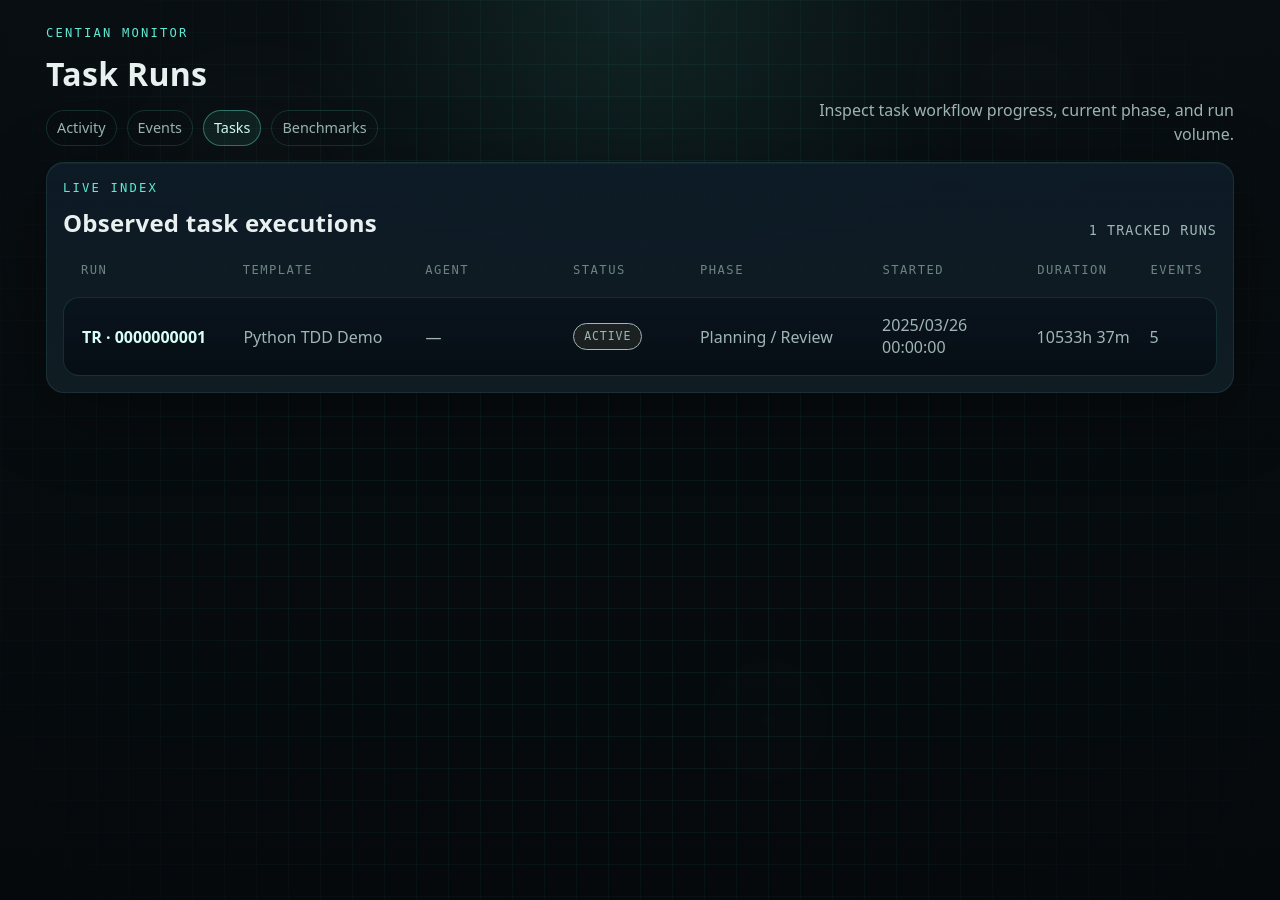
Test case: task run list › navigates to the detail route when a row is clicked
Click the link with aria-label "tr_1742947200123_0000000001": (640, 336) [63, 297, 1217, 376]
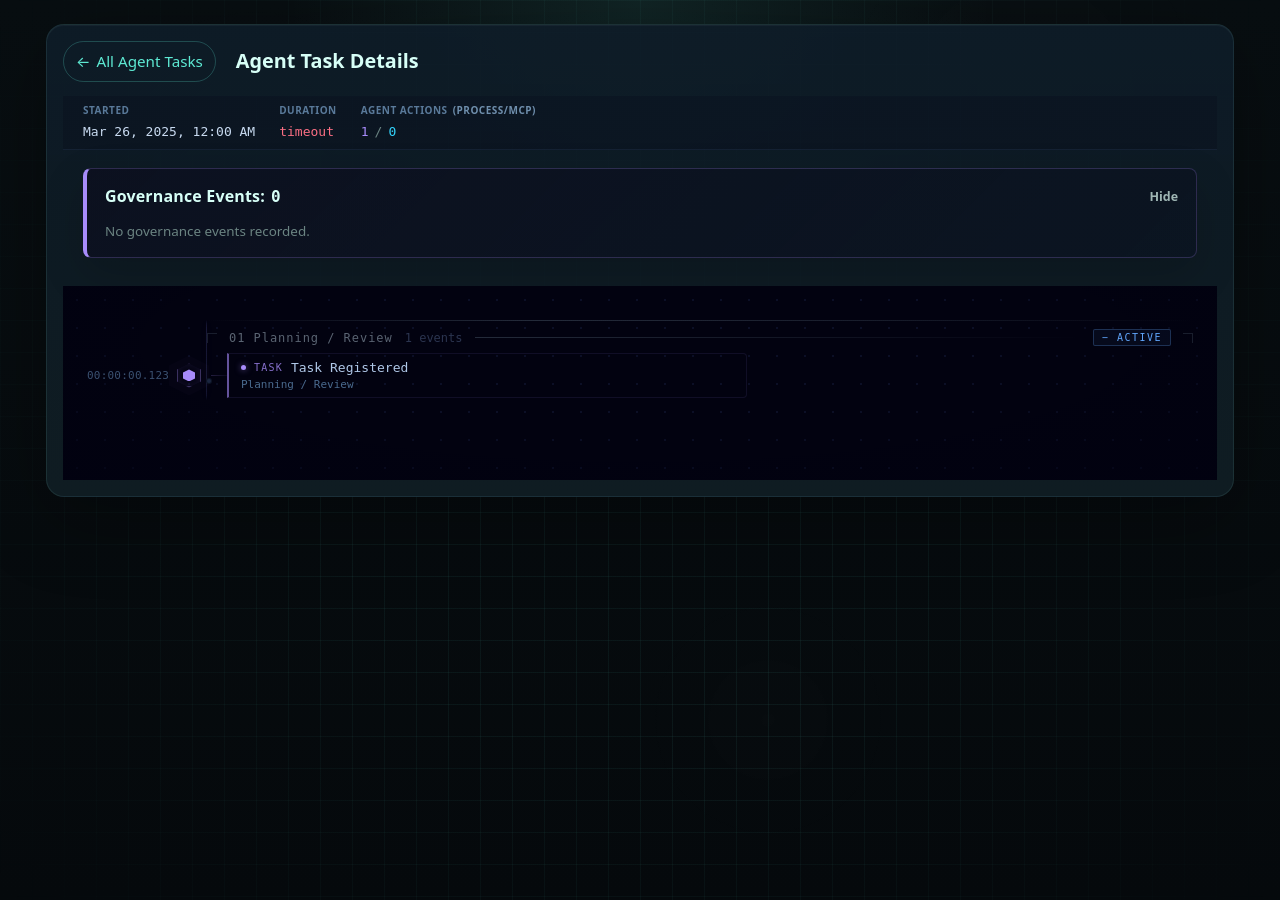
Now the heading "Agent Task Details" is shown, box [236, 50, 419, 72]
Now the heading "Task Runs" is gone
Now the text "Centian Monitor" is gone
